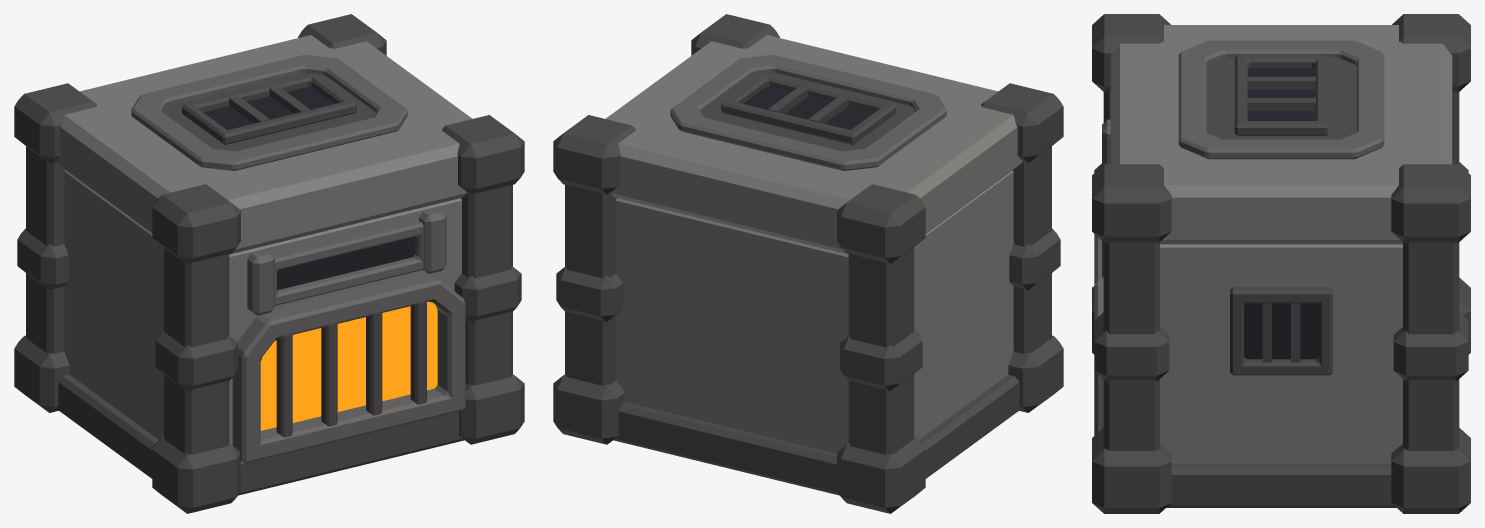
Rendered from Furnace.fbx.
3 renders of one model, left to right at view 1: azimuth 30°, elevation 25°; view 2: azimuth 150°, elevation 25°; view 3: azimuth 270°, elevation 25°, orthographic. The views are drawn at different scales.
Parts seen in each view (by area): view 1: Lid, Body, MouthFrame, Plinth.001, TopSurround, Glow, Post, Post.002, Post.001, Collar.003, Collar.001, SlotFrame (+18 smaller); view 2: Body, Lid, Plinth.001, TopSurround, Post.001, Post.003, Post, Collar.006, Collar.004, Collar.012, Grate, Collar.010 (+8 smaller); view 3: Body, Lid, TopSurround, Plinth.001, Post.002, Post.003, Collar.009, Collar.012, Collar.007, Collar.010, VentFrame, GrateBed (+14 smaller).
Part boxes in pixels (<box>): Lid: <box>55,35,472,254</box>; Body: <box>64,170,461,445</box>; MouthFrame: <box>232,273,465,463</box>; Plinth.001: <box>56,374,464,495</box>; TopSurround: <box>131,54,407,170</box>; Glow: <box>260,301,437,430</box>; Post: <box>164,247,229,454</box>; Post.002: <box>461,184,512,385</box>; Post.001: <box>26,146,64,353</box>; Collar.003: <box>152,184,240,263</box>; Collar.001: <box>152,436,240,513</box>; SlotFrame: <box>273,220,423,305</box>; Body: <box>616,170,1013,453</box>; Lid: <box>605,35,1022,254</box>; Plinth.001: <box>613,374,1021,495</box>; TopSurround: <box>670,54,946,170</box>; Post.001: <box>848,247,913,454</box>; Post.003: <box>565,184,616,385</box>; Post: <box>1013,146,1051,353</box>; Collar.006: <box>837,184,925,263</box>; Collar.004: <box>837,436,925,513</box>; Collar.012: <box>553,115,635,194</box>; Grate: <box>721,73,895,144</box>; Collar.010: <box>553,374,625,444</box>; Body: <box>1160,244,1402,463</box>; Lid: <box>1110,25,1452,244</box>; TopSurround: <box>1178,40,1384,159</box>; Plinth.001: <box>1166,464,1396,507</box>; Post.002: <box>1103,242,1159,450</box>; Post.003: <box>1403,242,1459,450</box>; Collar.009: <box>1092,164,1171,242</box>; Collar.012: <box>1391,164,1470,242</box>; Collar.007: <box>1092,428,1171,513</box>; Collar.010: <box>1391,428,1470,513</box>; VentFrame: <box>1230,287,1332,375</box>; GrateBed: <box>1206,58,1356,139</box>.
Bounding box in the file's own units: 4.65 × 3.98 × 4.05.
